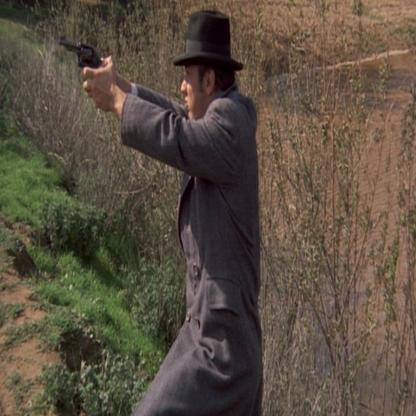gun: (56, 8, 110, 97)
